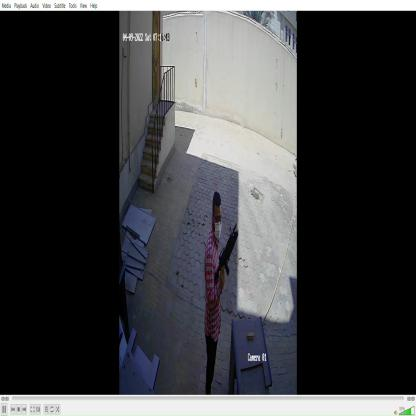handgun: (210, 210, 245, 294)
